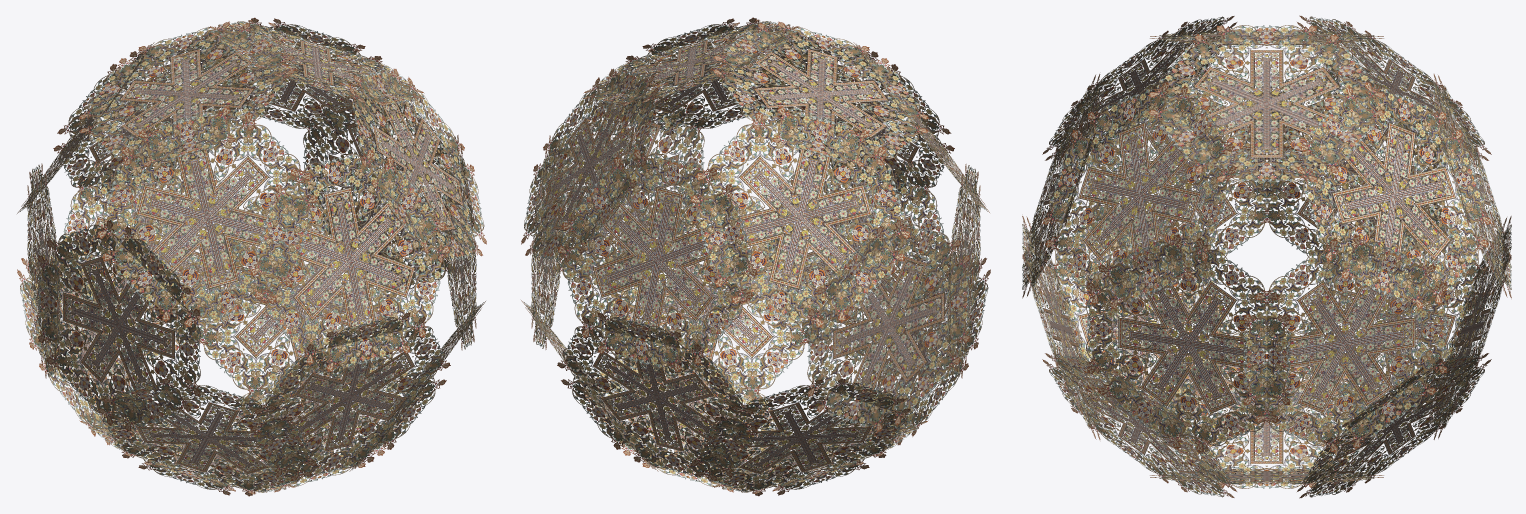
Rendered from IcositruncatedDodecadodecahedron10.gltf.
The picture shows the model from 3 angles, left to right: view 1: azimuth 30°, elevation 25°; view 2: azimuth 150°, elevation 25°; view 3: azimuth 270°, elevation 25°; orthographic projection. The views are drawn at different scales.
Parts seen in each view (by area): view 1: IcositruncatedDodecadodecahedron; view 2: IcositruncatedDodecadodecahedron; view 3: IcositruncatedDodecadodecahedron.
Part boxes in pixels (x1,y1,x2,y2): IcositruncatedDodecadodecahedron: [17, 17, 486, 496]; IcositruncatedDodecadodecahedron: [521, 17, 990, 496]; IcositruncatedDodecadodecahedron: [1022, 15, 1511, 498].
Bounding box in the file's own units: 3.85 × 3.85 × 3.85.
1 material, 1 textured.
